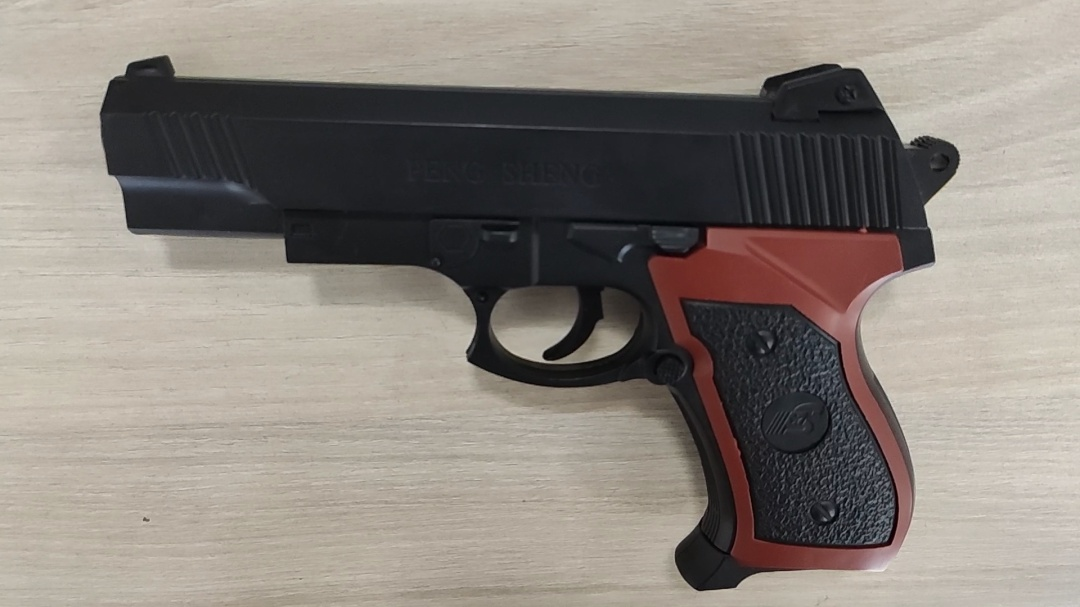gun: (419, 241, 522, 325)
